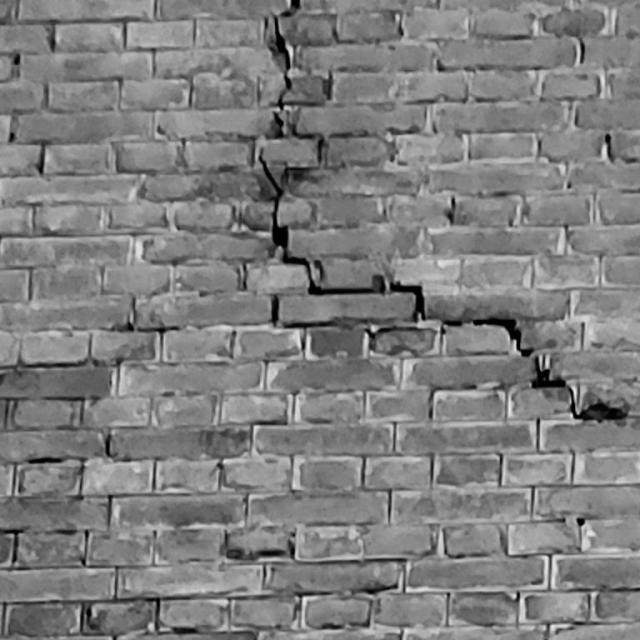crack: (259, 1, 628, 423)
